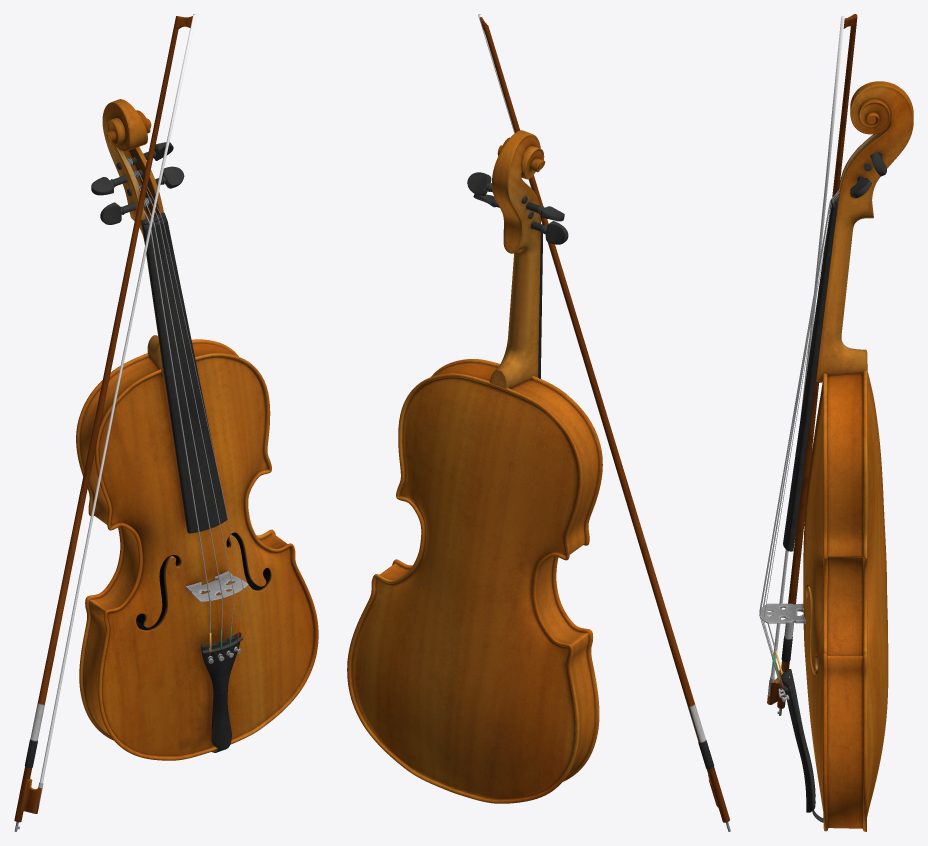
The model's file is violin (2).glb.
3 views of the same model, side by side, from view 1: azimuth 30°, elevation 25°; view 2: azimuth 150°, elevation 25°; view 3: azimuth 270°, elevation 25° (orthographic). The views are drawn at different scales.
Parts seen in each view (by area): view 1: xiaotiqin_4, xiaotiqin_g_2; view 2: xiaotiqin_4, xiaotiqin_g_2; view 3: xiaotiqin_4, xiaotiqin_g_2.
Boxes of the visible parts, left/top/right/bottom form: xiaotiqin_4: left=76, top=99, right=318, bottom=760; xiaotiqin_g_2: left=14, top=14, right=196, bottom=831; xiaotiqin_4: left=347, top=130, right=602, bottom=803; xiaotiqin_g_2: left=478, top=14, right=730, bottom=831; xiaotiqin_4: left=759, top=81, right=913, bottom=831; xiaotiqin_g_2: left=767, top=14, right=857, bottom=715.
Bounding box in the file's own units: 19.51 × 42.89 × 7.44.
1 material, 1 textured.
